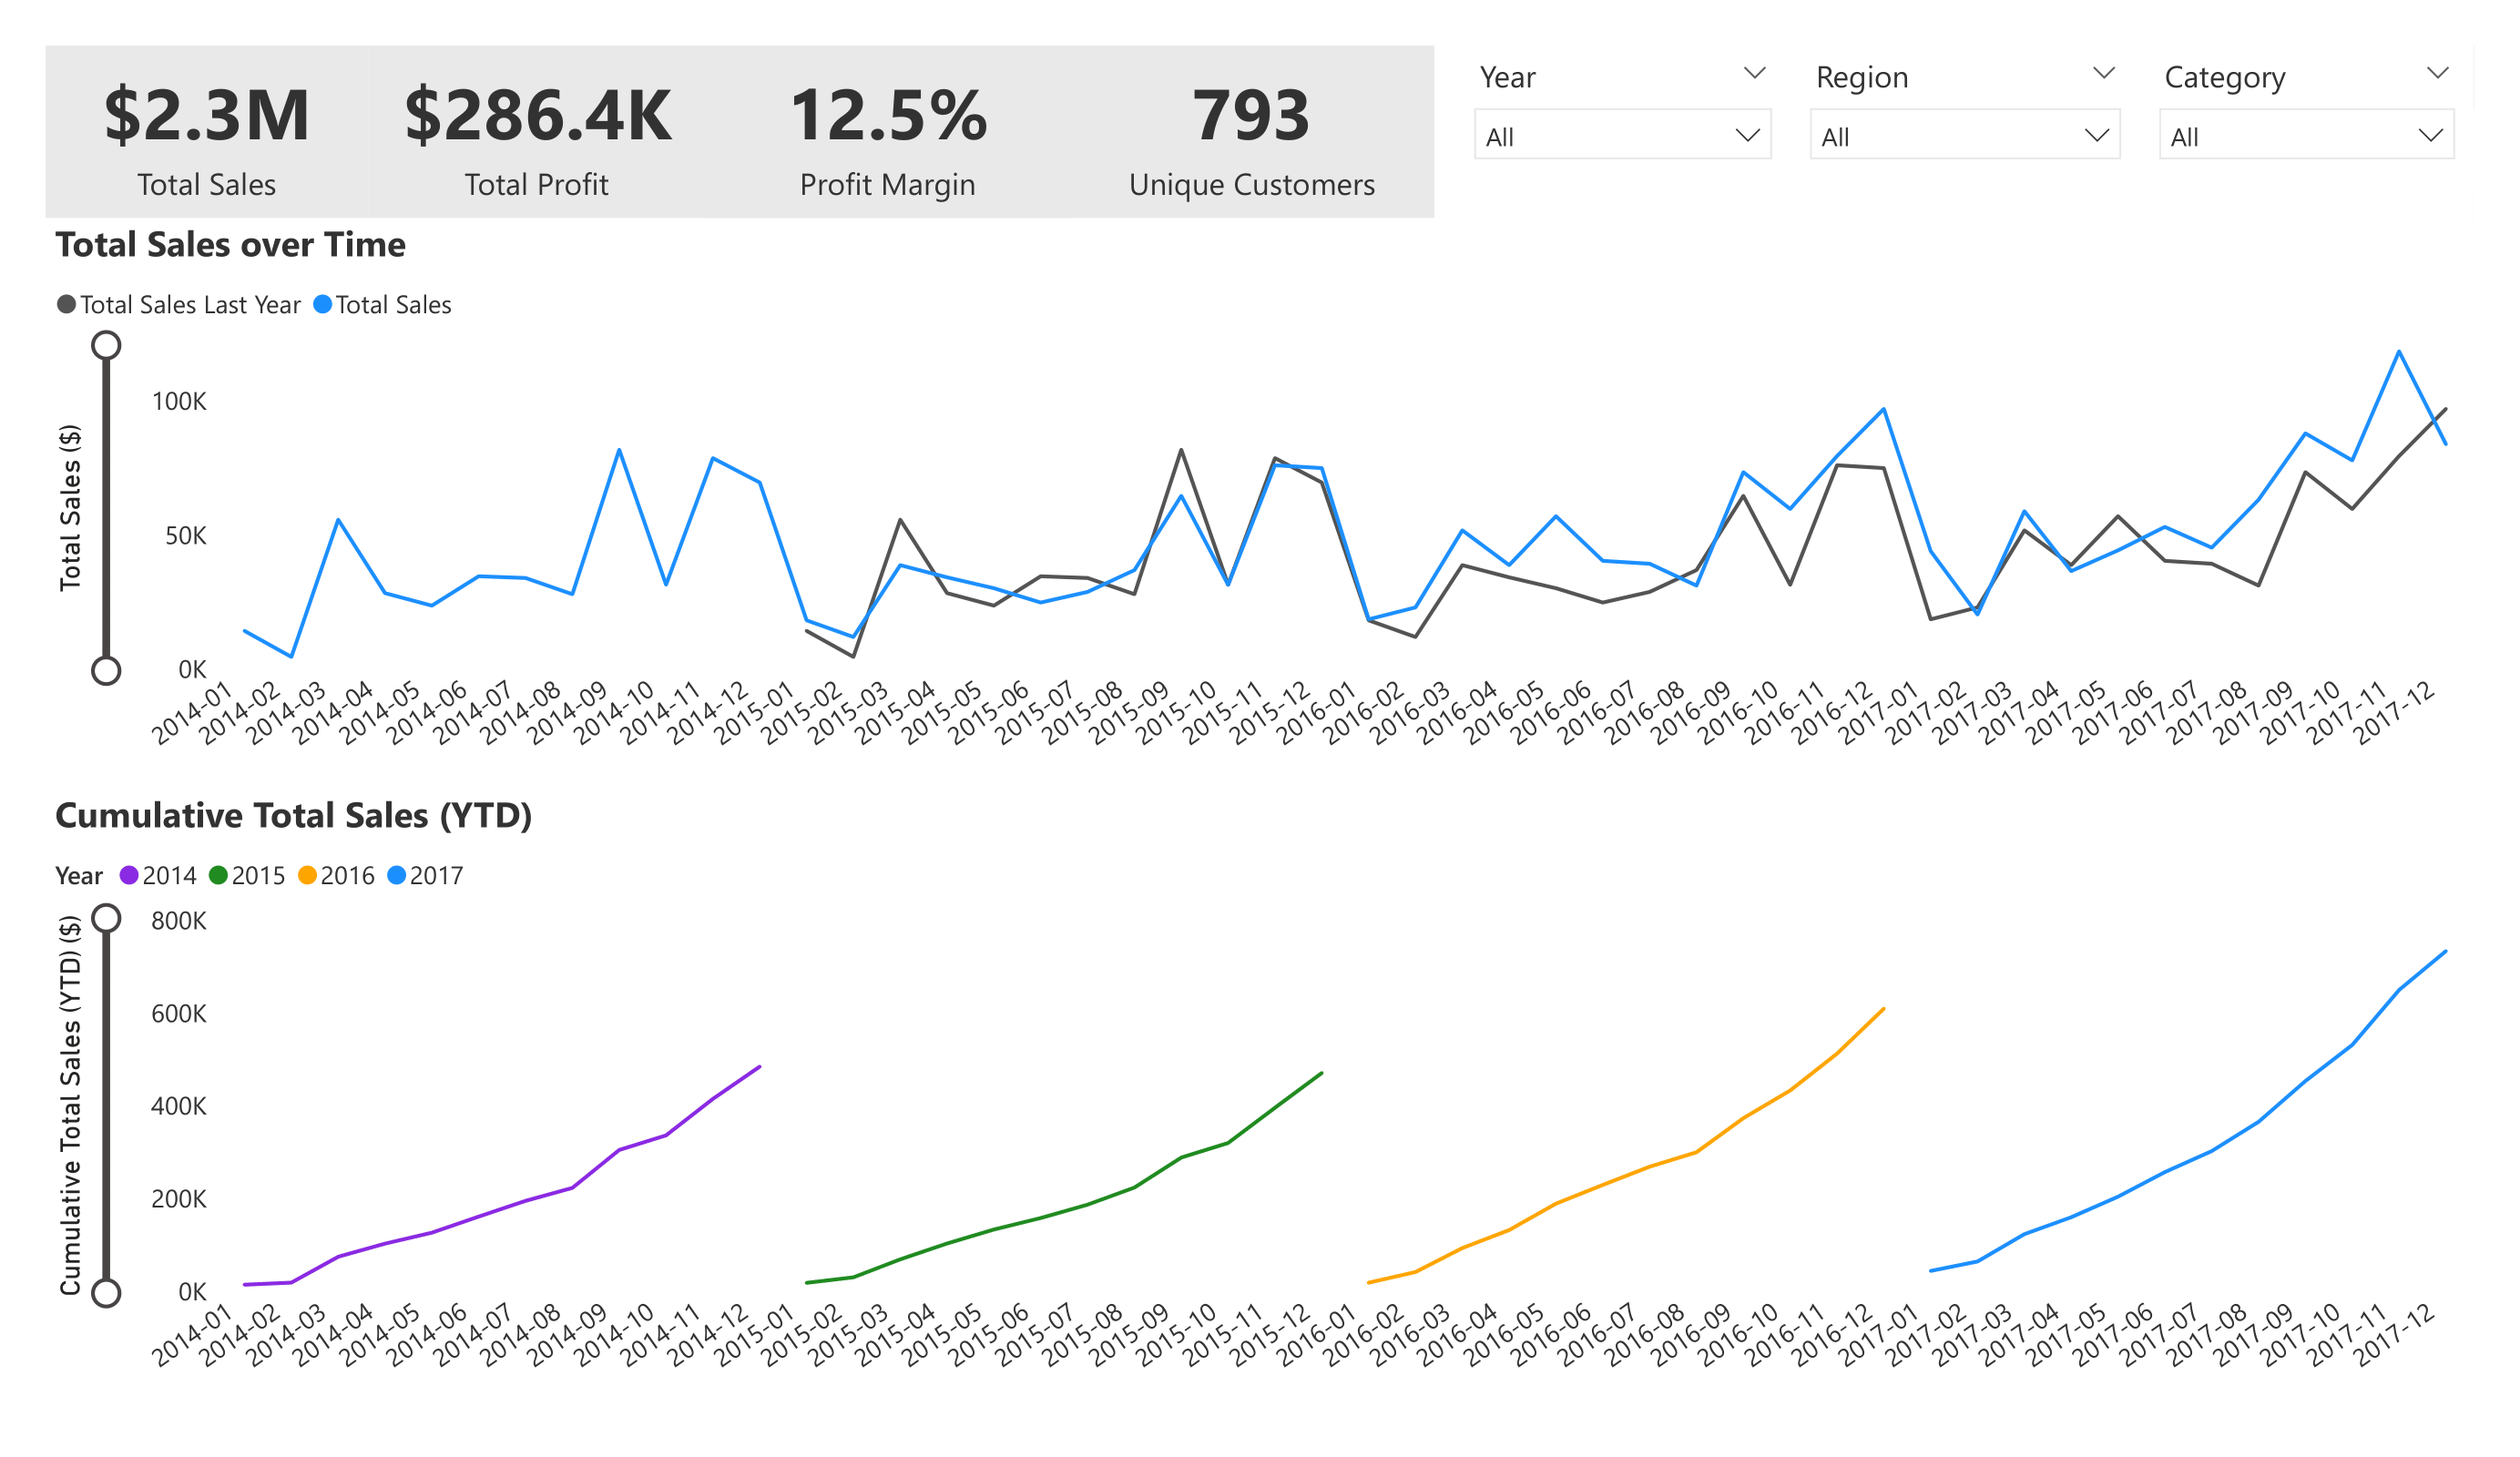

This screenshot's page, from the dashboard's own definition file:
{"tool":"powerbi","page":{"name":"Page 1","canvas":[1280,720],"ordinal":0},"visuals":[{"type":"card","fields":{"Values":["superstoresales_clean.Total Sales"]},"box":[0,0,169.9,90.7],"z":0},{"type":"card","fields":{"Values":["superstoresales_clean.Total Profit"]},"box":[169.9,0,178.6,90.7],"z":1000},{"type":"card","fields":{"Values":["superstoresales_clean.Unique Customers"]},"box":[540,0,191.5,90.7],"z":2000},{"type":"lineChart","title":"Total Sales over Time","fields":{"Y":["superstoresales_clean.Monthly Sales LY","superstoresales_clean.Total Sales"],"Category":["DateTable.Year-Month"]},"box":[0,90.7,1280.2,301],"z":3000},{"type":"lineChart","title":"Cumulative Total Sales (YTD)","fields":{"Category":["DateTable.Year-Month"],"Y":["superstoresales_clean.Running Total Sales"],"Series":["DateTable.Year"]},"box":[0,391.7,1280.2,328.3],"z":4000},{"type":"card","fields":{"Values":["superstoresales_clean.Profit Margin"]},"box":[348.5,0,191.5,90.7],"z":5000},{"type":"slicer","fields":{"Values":["DateTable.Year"]},"box":[743,0,177.1,77.8],"z":6000},{"type":"slicer","fields":{"Values":["superstoresales_clean.Region"]},"box":[920.2,0,184.3,85],"z":7000},{"type":"slicer","fields":{"Values":["superstoresales_clean.Category"]},"box":[1104.5,0,175.7,77.8],"z":8000}]}

Visuals, with their boxes on the page's 1280x720 design canvas (x1, y1, x2, y2). These are canvas units, not pixel positions in the 2520x1457 screenshot, which may show the page scaled, cropped or inside an application window:
card - superstoresales_clean.Total Sales: (x1=0, y1=0, x2=170, y2=91)
card - superstoresales_clean.Total Profit: (x1=170, y1=0, x2=348, y2=91)
card - superstoresales_clean.Unique Customers: (x1=540, y1=0, x2=732, y2=91)
"Total Sales over Time" lineChart: (x1=0, y1=91, x2=1280, y2=392)
"Cumulative Total Sales (YTD)" lineChart: (x1=0, y1=392, x2=1280, y2=720)
card - superstoresales_clean.Profit Margin: (x1=348, y1=0, x2=540, y2=91)
slicer - DateTable.Year: (x1=743, y1=0, x2=920, y2=78)
slicer - superstoresales_clean.Region: (x1=920, y1=0, x2=1104, y2=85)
slicer - superstoresales_clean.Category: (x1=1104, y1=0, x2=1280, y2=78)
